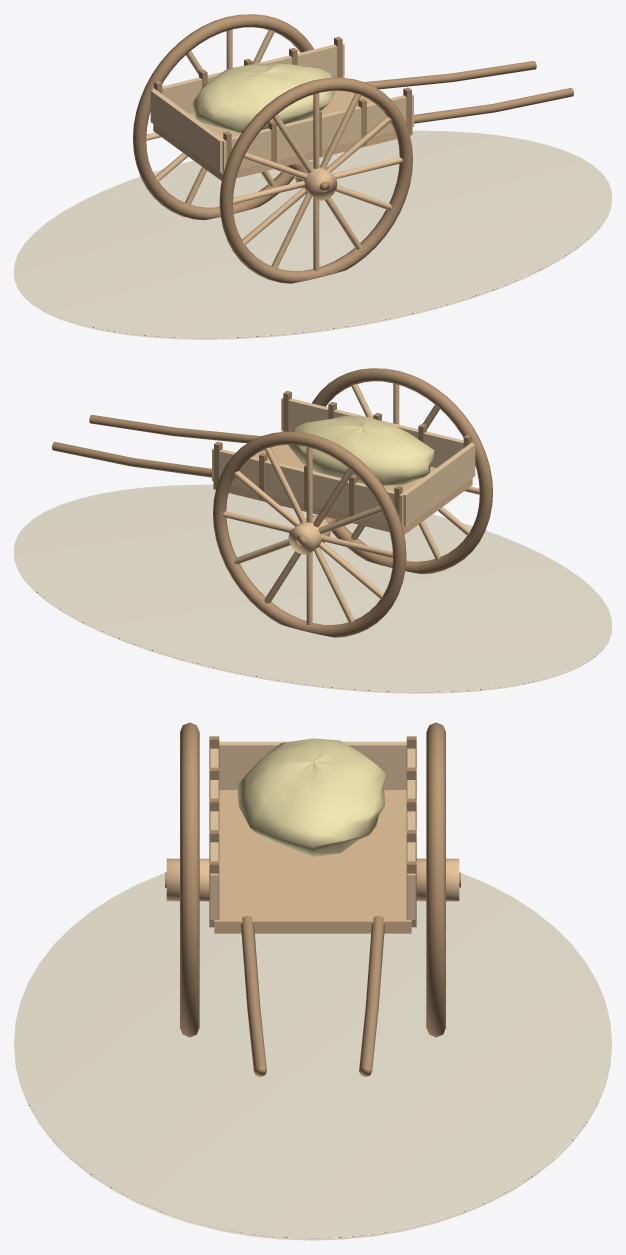
File: at-arba.glb
3 views of the same model, one above another, from view 1: azimuth 30°, elevation 25°; view 2: azimuth 150°, elevation 25°; view 3: azimuth 270°, elevation 25° (orthographic). The views are drawn at different scales.
Parts seen in each view (by area): view 1: ground, rim (×2), hay, side (×2), spoke (×10), shaft (×2), back, bed, hub; view 2: ground, rim (×2), side (×2), hay, spoke (×10), shaft (×2), back, bed, hub; view 3: ground, bed, hay, rim (×2), shaft (×2), back, side (×2), hub (×2).
Part boxes in pixels (x1,y1,x2,y2): ground: (14,130,611,339); rim (×2): (133,14,412,283); hay: (192,63,335,133); side (×2): (151,43,413,172); spoke (×10): (233,93,402,271); shaft (×2): (365,61,573,123); back: (150,89,223,172); bed: (153,76,412,180); hub: (295,161,337,200); ground: (14,484,611,693); rim (×2): (213,368,492,637); side (×2): (212,397,474,526); hay: (288,415,434,485); spoke (×10): (223,447,392,625); shaft (×2): (52,415,260,477); back: (402,443,475,526); bed: (213,430,472,534); hub: (288,515,330,554); ground: (14,873,611,1240); bed: (214,790,411,933); hay: (237,738,385,856); rim (×2): (180,722,445,1037); shaft (×2): (241,915,384,1076); back: (219,741,406,789); side (×2): (210,748,415,919); hub (×2): (166,858,459,901).
Bounding box in the file's own units: 5.6 × 1.92 × 3.64.
